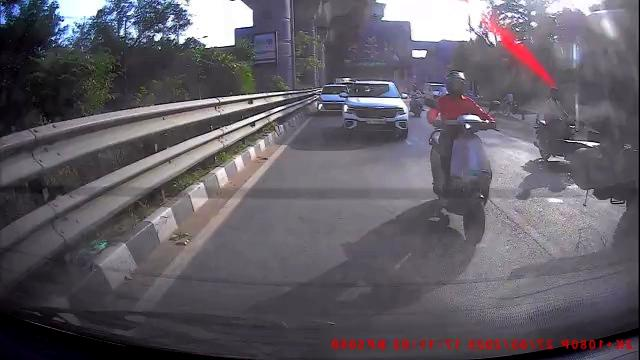motorcycle_with_helmet: (428, 69, 496, 246)
